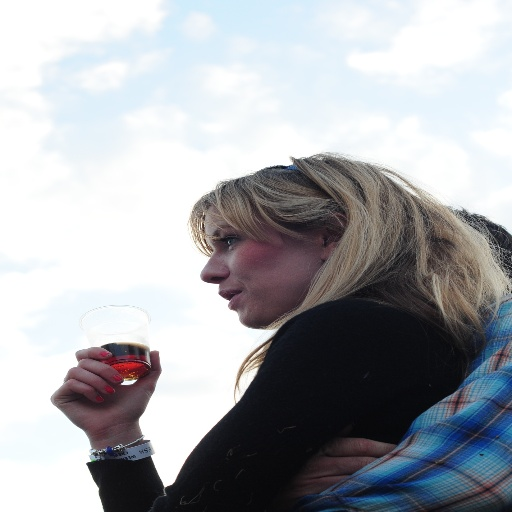hand: (54, 356, 161, 458), (290, 432, 399, 501)
